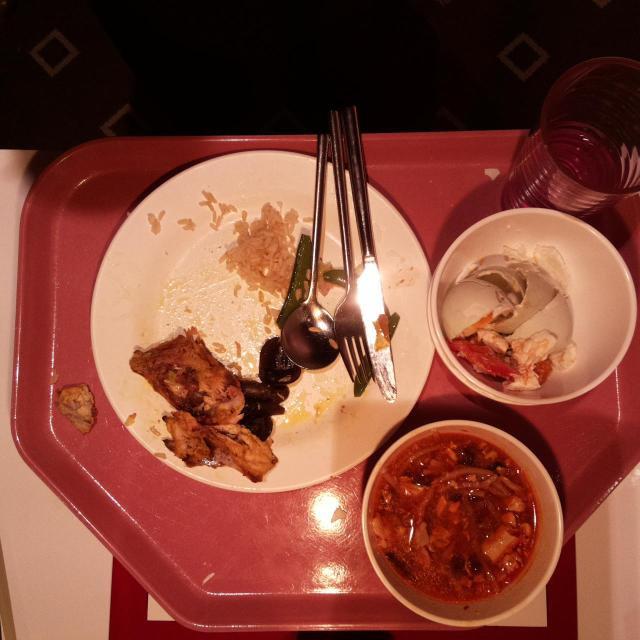Egg-shell: (500, 262, 574, 358), (441, 278, 515, 342)
Meat: (128, 331, 246, 415), (163, 421, 279, 481), (54, 382, 97, 436)
Rice: (221, 201, 299, 297)
Vegetable: (279, 233, 311, 327)
